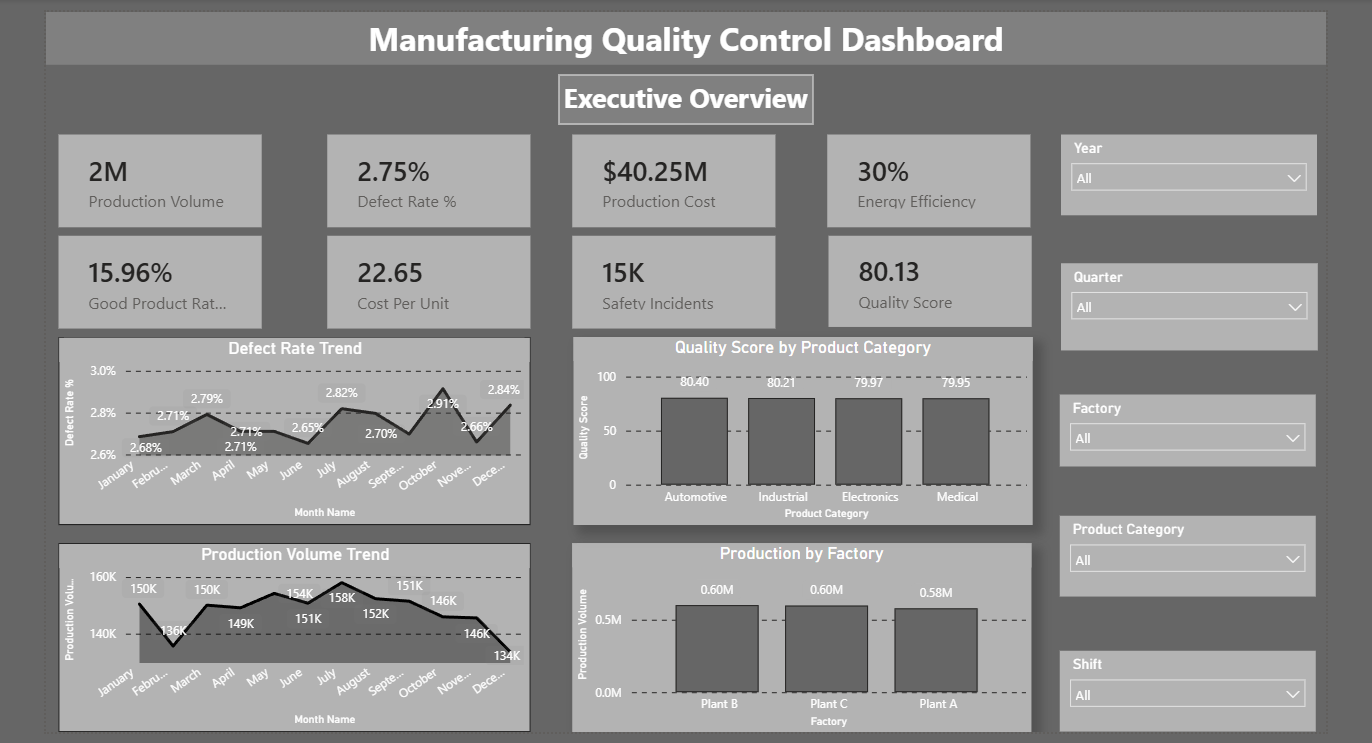

The page's visual inventory and layout, read from the dashboard file:
{"tool":"powerbi","page":{"name":"Executive Overview","canvas":[1280,720],"ordinal":0},"visuals":[{"type":"cardVisual","fields":{"Data":["Measure_Table.Total Production Volume"]},"box":[12.9,122.1,203.1,92.5],"z":0},{"type":"cardVisual","fields":{"Data":["Measure_Table.Total Production Cost"]},"box":[525.7,122.1,203.1,92.5],"z":1000},{"type":"cardVisual","fields":{"Data":["Measure_Table.Average Energy Efficiency"]},"box":[781.5,122.1,203.1,92.5],"z":2000},{"type":"cardVisual","fields":{"Data":["Measure_Table.Defect Rate %"]},"box":[281.5,122.1,203.1,92.5],"z":3000},{"type":"cardVisual","fields":{"Data":["Measure_Table.Good Product Rate %"]},"box":[12.9,223.7,203.1,92.5],"z":4000},{"type":"cardVisual","fields":{"Data":["Measure_Table.Average Quality Score"]},"box":[782.8,223.7,203.1,91.3],"z":5000},{"type":"cardVisual","fields":{"Data":["Measure_Table.Cost Per Unit"]},"box":[281.5,223.7,203.1,92.5],"z":6000},{"type":"cardVisual","fields":{"Data":["Measure_Table.Total Safety Incidents"]},"box":[525.7,223.7,203.1,92.5],"z":7000},{"type":"lineChart","title":"Production Volume Trend","fields":{"Category":["Dim_Date.Month Name"],"Y":["Measure_Table.Total Production Volume"]},"box":[12.9,530.9,471.7,189],"z":8000},{"type":"lineChart","title":"Defect Rate Trend","fields":{"Category":["Dim_Date.Month Name"],"Y":["Measure_Table.Defect Rate %"]},"box":[12.9,325.2,471.7,187.7],"z":9000},{"type":"clusteredColumnChart","title":"Production by Factory","fields":{"Y":["Measure_Table.Total Production Volume"],"Category":["Dim_Factory.Factory"]},"box":[525.7,530.9,458.9,189],"z":10000},{"type":"columnChart","title":"Quality Score by Product Category","fields":{"Category":["Dim_Product.Product Category"],"Y":["Measure_Table.Average Quality Score"]},"box":[527,325.2,458.9,187.7],"z":11000},{"type":"slicer","fields":{"Values":["Dim_Date.Year"]},"box":[1015.5,122.1,255.8,81],"z":12000},{"type":"slicer","fields":{"Values":["Dim_Date.Quarter"]},"box":[1015,250.7,256.8,86.8],"z":13000},{"type":"slicer","fields":{"Values":["Dim_Factory.Factory"]},"box":[1014.2,383.1,255.8,72],"z":14000},{"type":"slicer","fields":{"Values":["Dim_Shift.Shift"]},"box":[1014.2,638.8,255.8,81],"z":15000},{"type":"slicer","fields":{"Values":["Dim_Product.Product Category"]},"box":[1014.2,503.9,255.8,81],"z":16000},{"type":"textbox","box":[0,0,1280.3,52.7],"z":17000},{"type":"textbox","box":[512.9,63,254.5,50.1],"z":18000}]}

Visuals, with their boxes in screenshot pixels (x1, y1, x2, y2):
cardVisual - Measure_Table.Total Production Volume: box=[45, 124, 252, 218]
cardVisual - Measure_Table.Total Production Cost: box=[567, 124, 774, 218]
cardVisual - Measure_Table.Average Energy Efficiency: box=[828, 124, 1034, 218]
cardVisual - Measure_Table.Defect Rate %: box=[319, 124, 525, 218]
cardVisual - Measure_Table.Good Product Rate %: box=[45, 228, 252, 322]
cardVisual - Measure_Table.Average Quality Score: box=[829, 228, 1036, 321]
cardVisual - Measure_Table.Cost Per Unit: box=[319, 228, 525, 322]
cardVisual - Measure_Table.Total Safety Incidents: box=[567, 228, 774, 322]
"Production Volume Trend" lineChart: box=[45, 540, 525, 733]
"Defect Rate Trend" lineChart: box=[45, 331, 525, 522]
"Production by Factory" clusteredColumnChart: box=[567, 540, 1034, 733]
"Quality Score by Product Category" columnChart: box=[569, 331, 1036, 522]
slicer - Dim_Date.Year: box=[1066, 124, 1326, 207]
slicer - Dim_Date.Quarter: box=[1065, 255, 1327, 344]
slicer - Dim_Factory.Factory: box=[1065, 390, 1325, 463]
slicer - Dim_Shift.Shift: box=[1065, 650, 1325, 733]
slicer - Dim_Product.Product Category: box=[1065, 513, 1325, 595]
textbox: box=[32, 0, 1335, 54]
textbox: box=[554, 64, 813, 115]
